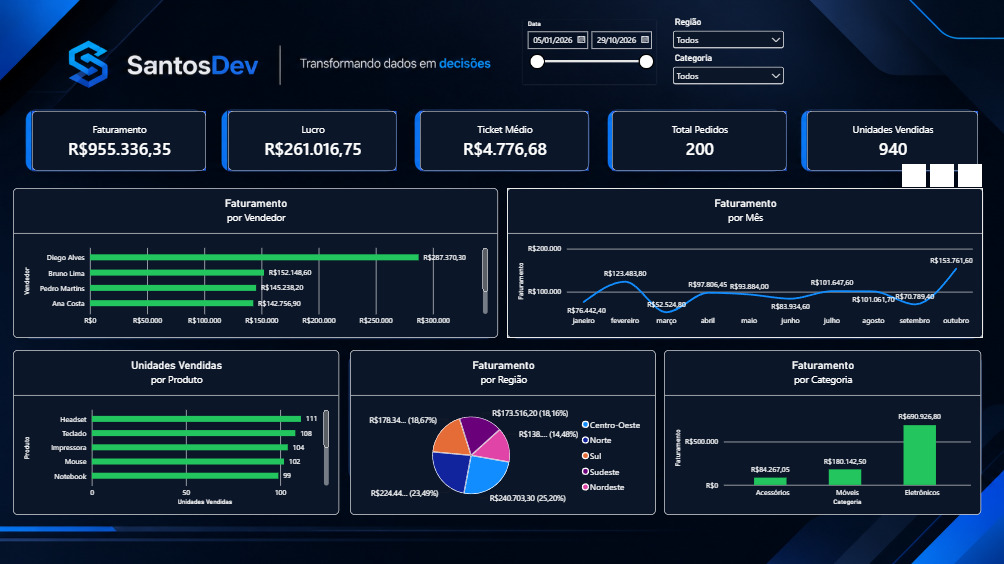

What the dashboard file says about the page in this screenshot:
{"tool":"powerbi","page":{"name":"Vendas","canvas":[1920,1080],"ordinal":0},"visuals":[{"type":"cardVisual","fields":{"Data":["Vendas.Lucro"]},"box":[505.1,250.9,280.8,99.7],"z":0},{"type":"cardVisual","fields":{"Data":["Vendas.Total Pedidos"]},"box":[1143.1,250.9,290.8,99.7],"z":1000},{"type":"cardVisual","fields":{"Data":["Vendas.Unidades Vendidas"]},"box":[1467.1,250.9,284.1,99.7],"z":2000},{"type":"cardVisual","fields":{"Data":["Vendas.Ticket Médio"]},"box":[824.1,250.9,280.8,99.7],"z":3000},{"type":"cardVisual","fields":{"Data":["Vendas.Faturamento"]},"box":[179.4,250.9,289.1,99.7],"z":4000},{"type":"lineChart","fields":{"Category":["Vendas.Data.Variação.Hierarquia de datas.Mês"],"Y":["Vendas.Faturamento"]},"box":[968.7,378.8,790.9,249.2],"z":5000},{"type":"barChart","fields":{"Category":["Vendas.Produto"],"Y":["Vendas.Unidades Vendidas"]},"box":[147.9,648,541.7,274.2],"z":6000},{"type":"pieChart","fields":{"Category":["Vendas.Região"],"Y":["Vendas.Faturamento"]},"box":[707.8,648,508.4,274.2],"z":7000},{"type":"columnChart","fields":{"Category":["Vendas.Categoria"],"Y":["Vendas.Faturamento"]},"box":[1229.5,648,526.7,274.2],"z":8000},{"type":"clusteredBarChart","fields":{"Category":["Vendas.Vendedor"],"Y":["Vendas.Faturamento"]},"box":[147.9,378.8,805.8,249.2],"z":9000},{"type":"actionButton","box":[0,0,100,40],"z":10000},{"type":"slicer","fields":{"Values":["Vendas.Data"]},"box":[995.3,99.7,221,106.3],"z":11000},{"type":"slicer","fields":{"Values":["Vendas.Região"]},"box":[1239.5,94.7,194.4,58.2],"z":12000},{"type":"slicer","fields":{"Values":["Vendas.Categoria"]},"box":[1239.5,154.5,194.4,61.5],"z":13000}]}

Visuals, with their boxes in screenshot pixels (x1, y1, x2, y2), scaled from the page's 1920x1080 canvas onto the 1004x564 screenshot:
cardVisual - Vendas.Lucro: Rect(264, 131, 411, 183)
cardVisual - Vendas.Total Pedidos: Rect(598, 131, 750, 183)
cardVisual - Vendas.Unidades Vendidas: Rect(767, 131, 916, 183)
cardVisual - Vendas.Ticket Médio: Rect(431, 131, 578, 183)
cardVisual - Vendas.Faturamento: Rect(94, 131, 245, 183)
lineChart - Vendas.Data.Variação.Hierarquia de datas.Mês x Vendas.Faturamento: Rect(507, 198, 920, 328)
barChart - Vendas.Produto x Vendas.Unidades Vendidas: Rect(77, 338, 361, 482)
pieChart - Vendas.Região x Vendas.Faturamento: Rect(370, 338, 636, 482)
columnChart - Vendas.Categoria x Vendas.Faturamento: Rect(643, 338, 918, 482)
clusteredBarChart - Vendas.Vendedor x Vendas.Faturamento: Rect(77, 198, 499, 328)
actionButton: Rect(0, 0, 52, 21)
slicer - Vendas.Data: Rect(520, 52, 636, 108)
slicer - Vendas.Região: Rect(648, 49, 750, 80)
slicer - Vendas.Categoria: Rect(648, 81, 750, 113)
